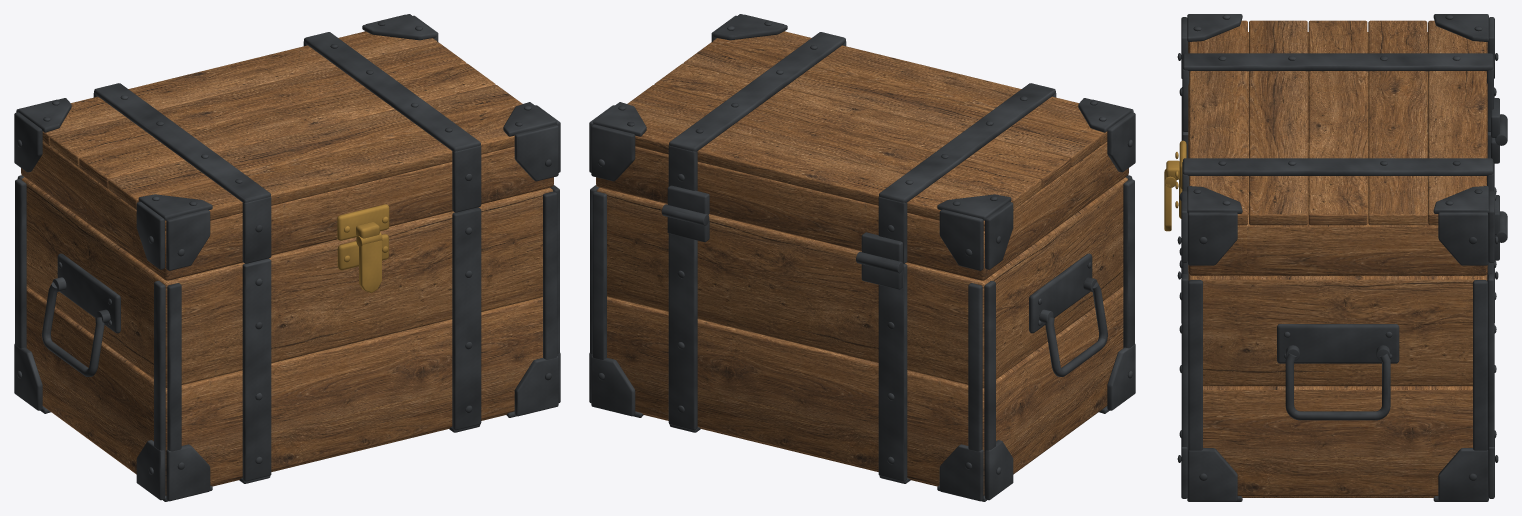
File: Blender_Python_chest.glb
3 renders of one model, left to right at view 1: azimuth 30°, elevation 25°; view 2: azimuth 150°, elevation 25°; view 3: azimuth 270°, elevation 25°, orthographic. The views are drawn at different scales.
Visible parts, largest first — view 1: wood.body.course_1, wood.body.course_2, wood.lid.rim, wood.lid.plank_3, wood.lid.plank_4, wood.lid.plank_2, wood.lid.plank_1, wood.lid.plank_5, iron.band.right.front.body, iron.band.left.front.body, iron.band.left.top, iron.band.right.top (+23 smaller); view 2: wood.body.course_2, wood.body.course_1, wood.lid.rim, wood.lid.plank_2, wood.lid.plank_3, wood.lid.plank_4, wood.lid.plank_5, wood.lid.plank_1, iron.band.left.rear.body, iron.band.right.rear.body, iron.band.left.top, iron.band.right.top (+24 smaller); view 3: wood.body.course_1, wood.body.course_2, wood.lid.rim, wood.lid.plank_4, wood.lid.plank_3, wood.lid.plank_2, wood.lid.plank_5, wood.lid.plank_1, iron.band.left.top, iron.band.right.top, iron.handle.right_visible.mount, iron.corner.x1.y-1.edge_side (+16 smaller).
Part boxes in pixels (<box>): wood.body.course_1: <box>26,286,542,495</box>; wood.body.course_2: <box>22,177,552,388</box>; wood.lid.rim: <box>21,142,553,280</box>; wood.lid.plank_3: <box>79,63,495,188</box>; wood.lid.plank_4: <box>50,42,466,167</box>; wood.lid.plank_2: <box>108,85,522,209</box>; wood.lid.plank_1: <box>137,109,514,231</box>; wood.lid.plank_5: <box>42,31,437,145</box>; iron.band.right.front.body: <box>452,207,481,430</box>; iron.band.left.front.body: <box>242,258,271,481</box>; iron.band.left.top: <box>94,83,270,202</box>; iron.band.right.top: <box>304,32,480,151</box>; wood.body.course_2: <box>597,177,1127,388</box>; wood.body.course_1: <box>607,286,1123,495</box>; wood.lid.rim: <box>596,142,1128,280</box>; wood.lid.plank_2: <box>683,42,1099,167</box>; wood.lid.plank_3: <box>654,63,1070,188</box>; wood.lid.plank_4: <box>627,85,1041,209</box>; wood.lid.plank_5: <box>635,109,1012,231</box>; wood.lid.plank_1: <box>712,31,1107,145</box>; iron.band.left.rear.body: <box>878,263,907,481</box>; iron.band.right.rear.body: <box>668,233,697,430</box>; iron.band.left.top: <box>879,83,1055,202</box>; iron.band.right.top: <box>669,32,845,151</box>; wood.body.course_1: <box>1203,386,1472,496</box>; wood.body.course_2: <box>1188,274,1487,386</box>; wood.lid.rim: <box>1188,32,1487,275</box>; wood.lid.plank_4: <box>1368,20,1427,225</box>; wood.lid.plank_3: <box>1308,20,1367,225</box>; wood.lid.plank_2: <box>1249,20,1307,225</box>; wood.lid.plank_5: <box>1428,20,1486,225</box>; wood.lid.plank_1: <box>1189,20,1247,225</box>; iron.band.left.top: <box>1183,53,1493,71</box>; iron.band.right.top: <box>1183,158,1493,175</box>; iron.handle.right_visible.mount: <box>1277,324,1399,363</box>; iron.corner.x1.y-1.edge_side: <box>1188,280,1202,450</box>.
Size of the model in its own units: 1.37 by 0.8534 by 0.897.
3 materials, 3 textured.
